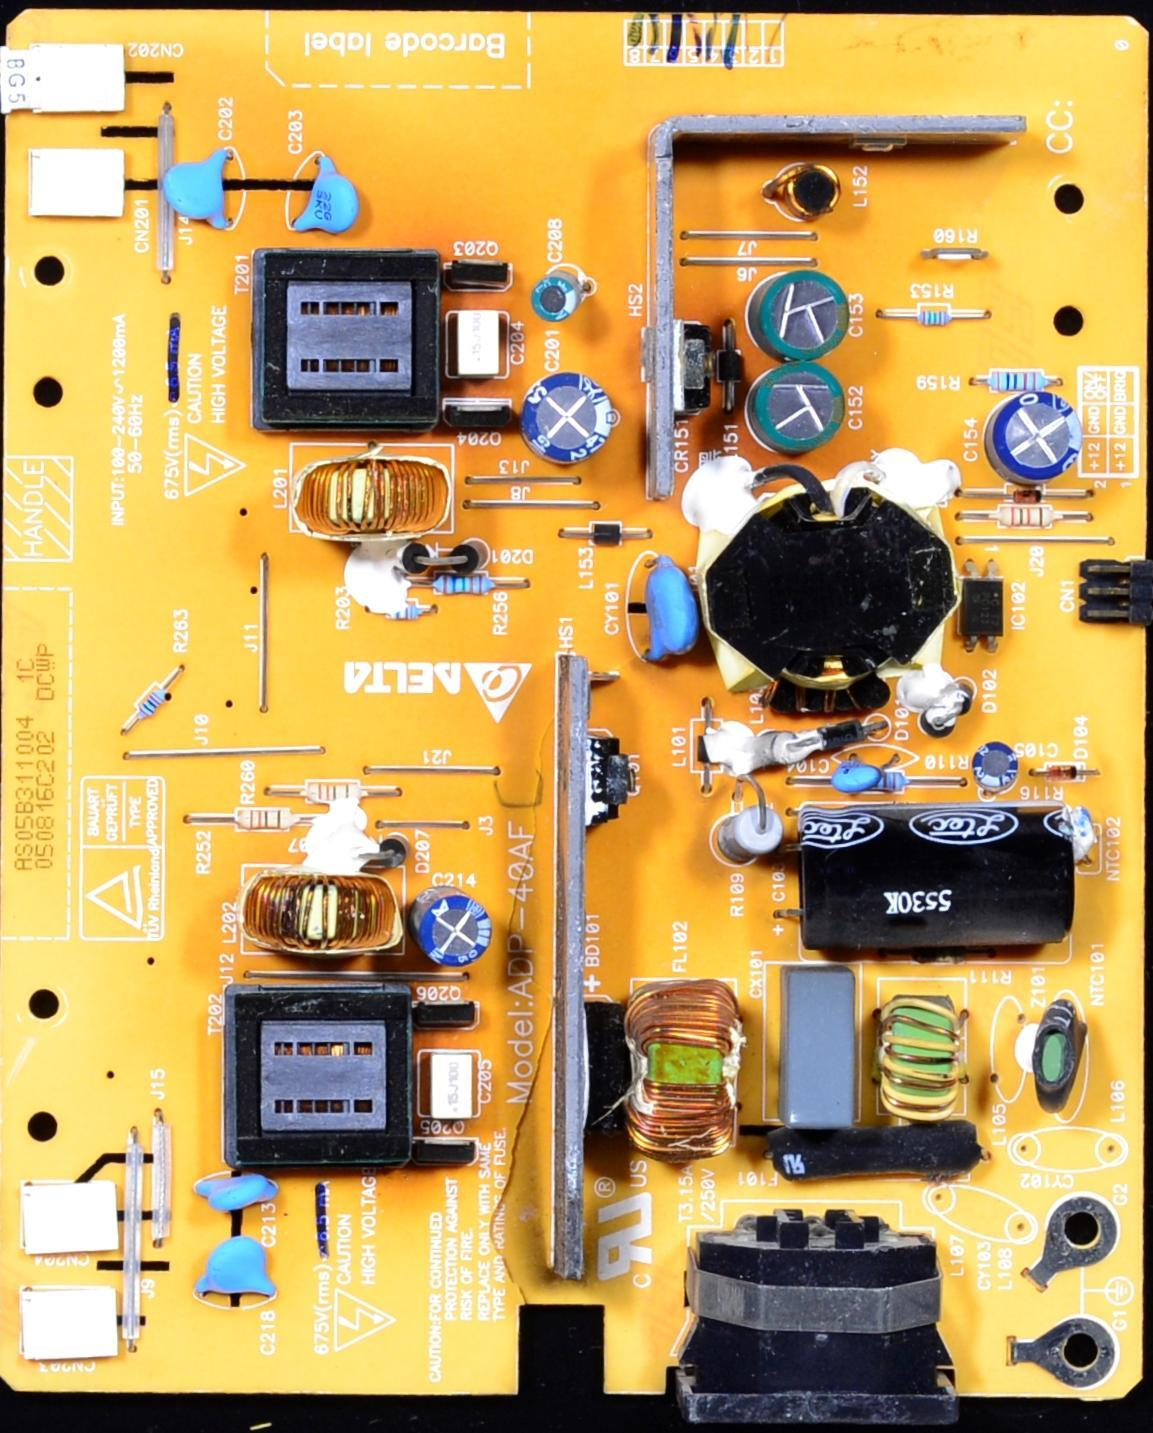Capacitor: (801, 802, 1078, 959), (749, 360, 851, 456), (984, 396, 1085, 487), (758, 269, 854, 360), (525, 374, 621, 464), (195, 1229, 282, 1309), (412, 884, 492, 966), (164, 149, 242, 233), (638, 559, 699, 666), (293, 160, 362, 236), (418, 1049, 482, 1128), (193, 1167, 278, 1217), (969, 740, 1025, 791), (533, 269, 587, 320), (835, 755, 884, 795)
Resistor: (713, 792, 797, 879), (987, 492, 1068, 536), (433, 562, 509, 607), (235, 799, 301, 842), (827, 772, 912, 804), (305, 772, 369, 813), (984, 365, 1064, 398), (904, 296, 968, 334), (129, 684, 179, 724), (375, 602, 438, 628)
Transistor: (408, 989, 487, 1037), (447, 249, 512, 296), (408, 1137, 482, 1174)
